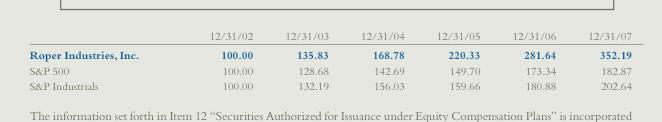table: (28, 29, 631, 91)
table column: (28, 29, 173, 91), (173, 29, 268, 91), (343, 29, 419, 91), (419, 29, 495, 91), (495, 29, 571, 91), (268, 29, 343, 91), (571, 29, 631, 91)
table column header: (28, 29, 631, 45)
table row: (28, 45, 631, 62), (28, 29, 631, 45), (28, 62, 631, 77), (28, 77, 631, 91)
